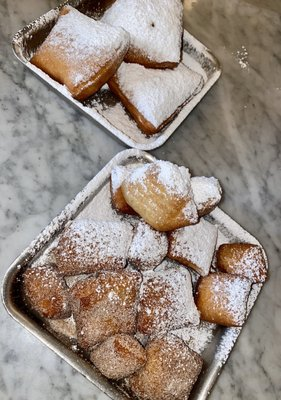curry: (0, 0, 280, 396)
